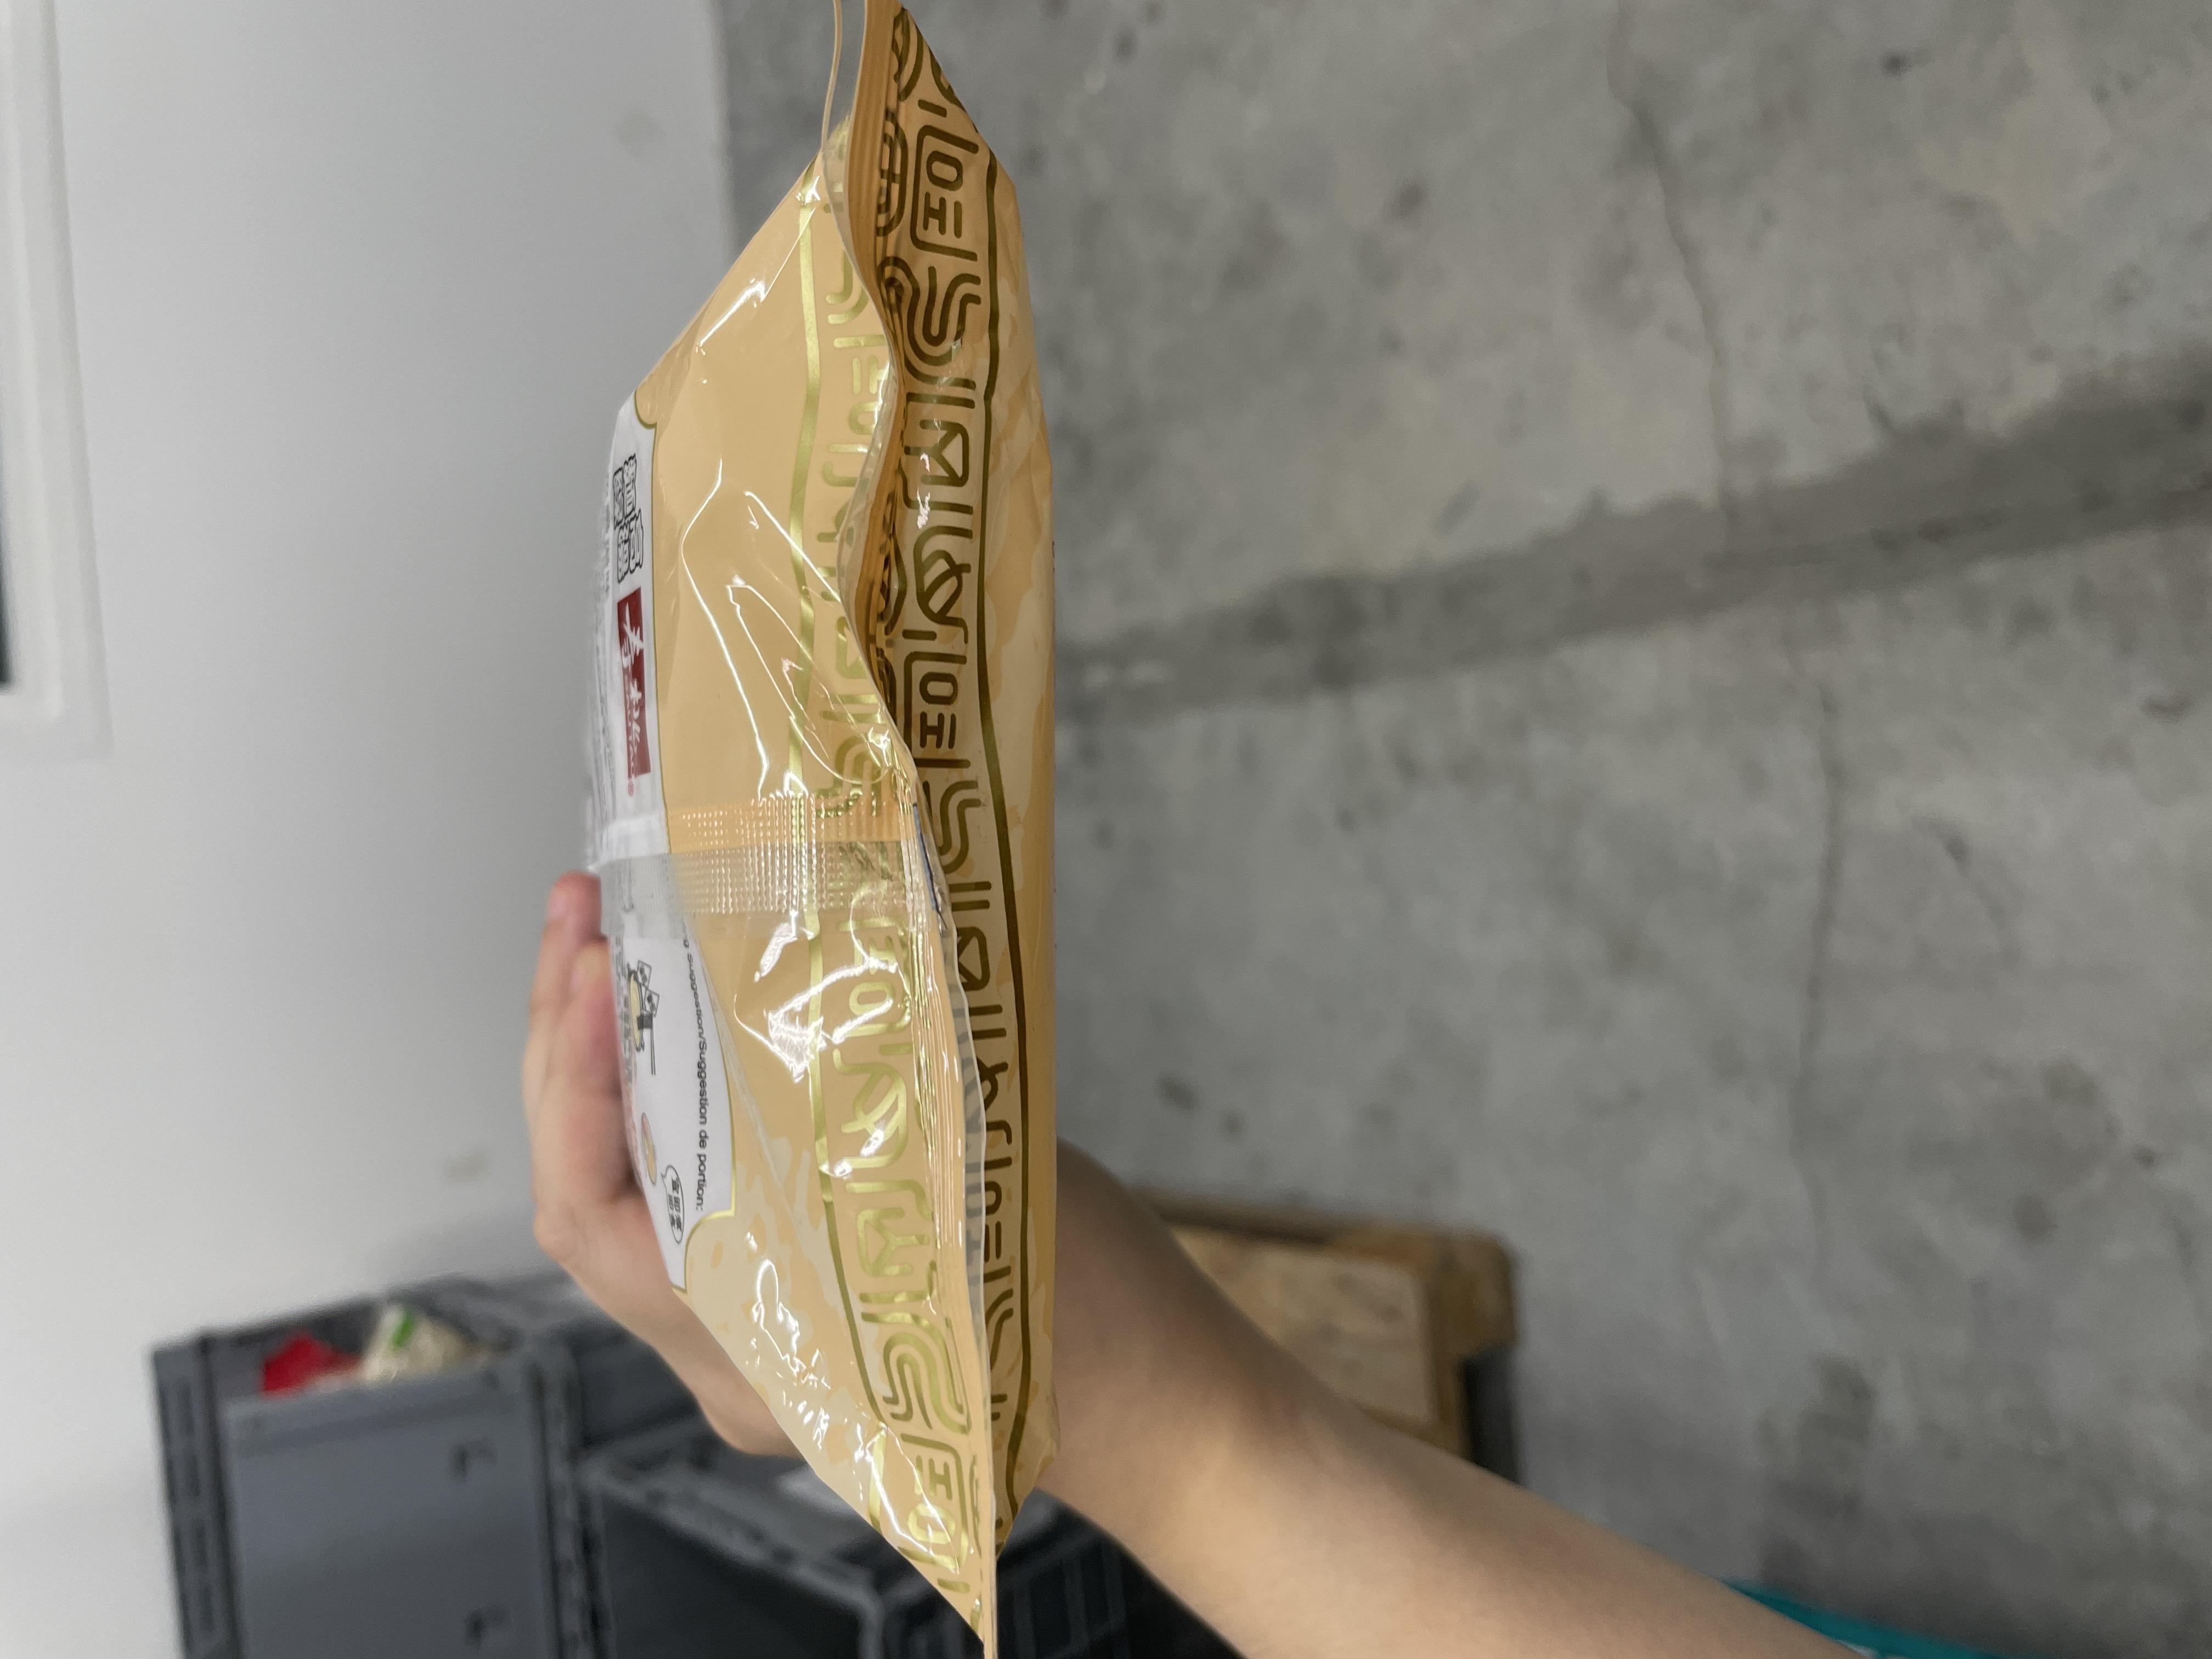object_name: (263, 596, 1437, 999)
